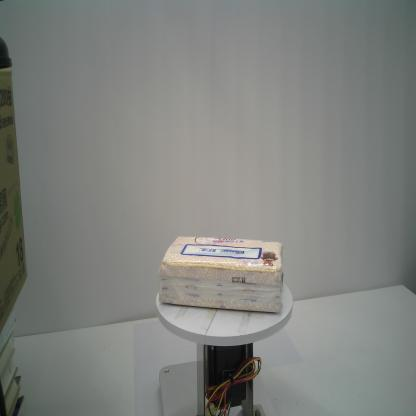Tissue: (157, 236, 284, 312)
